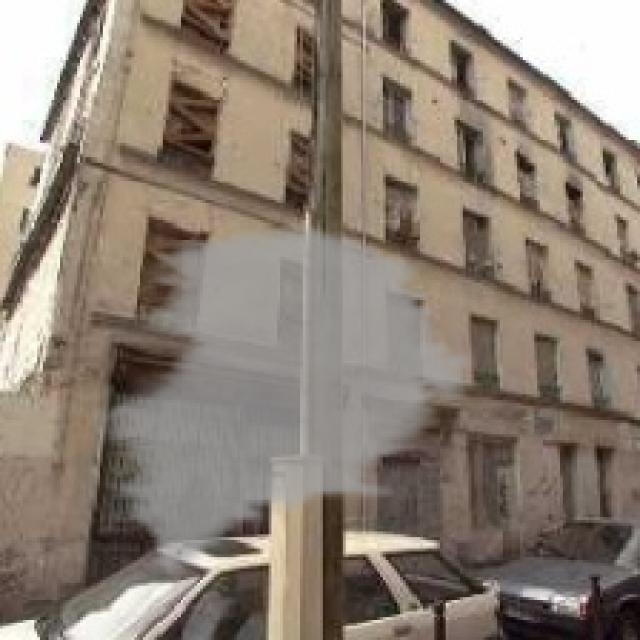Smoke: (88, 220, 483, 577)
